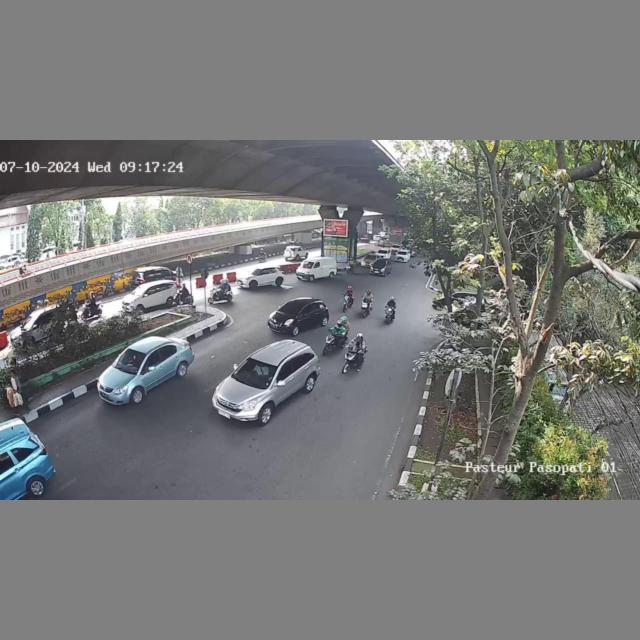windshield: (232, 356, 279, 387), (113, 350, 145, 373), (280, 300, 303, 318)
